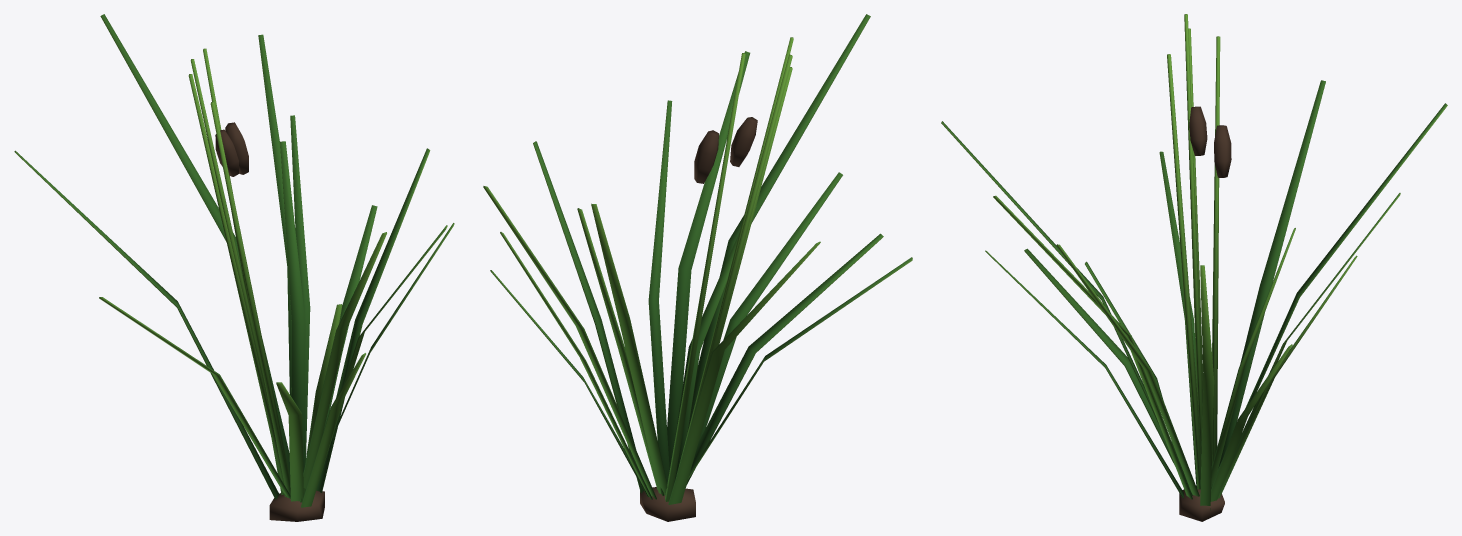
The model's file is reeds.lod1.glb.
3 views of the same model, side by side, from view 1: azimuth 30°, elevation 25°; view 2: azimuth 150°, elevation 25°; view 3: azimuth 270°, elevation 25° (orthographic). The views are drawn at different scales.
Visible parts, largest first — view 1: reeds_s1_lod1; view 2: reeds_s1_lod1; view 3: reeds_s1_lod1.
Boxes of the visible parts, x1,y1,x2,y2 form: reeds_s1_lod1: (14, 14, 454, 521); reeds_s1_lod1: (483, 14, 912, 521); reeds_s1_lod1: (941, 14, 1447, 521).
Bounding box in the file's own units: 1.23 × 1.66 × 1.69.
